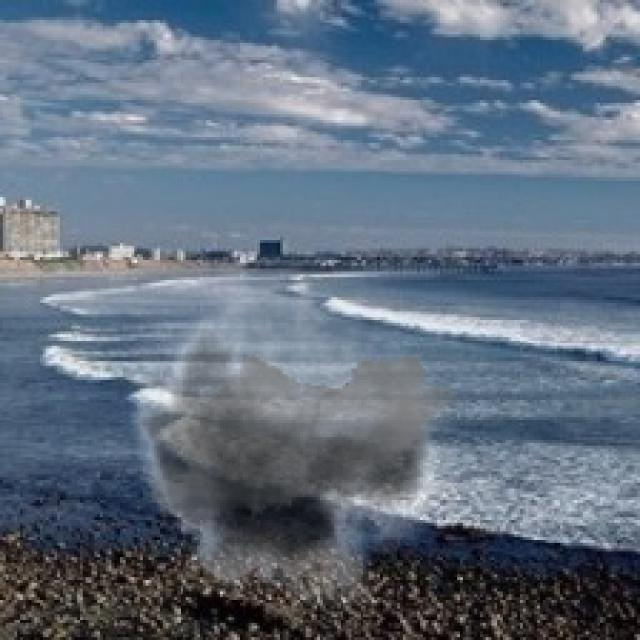smoke: (111, 257, 460, 626)
